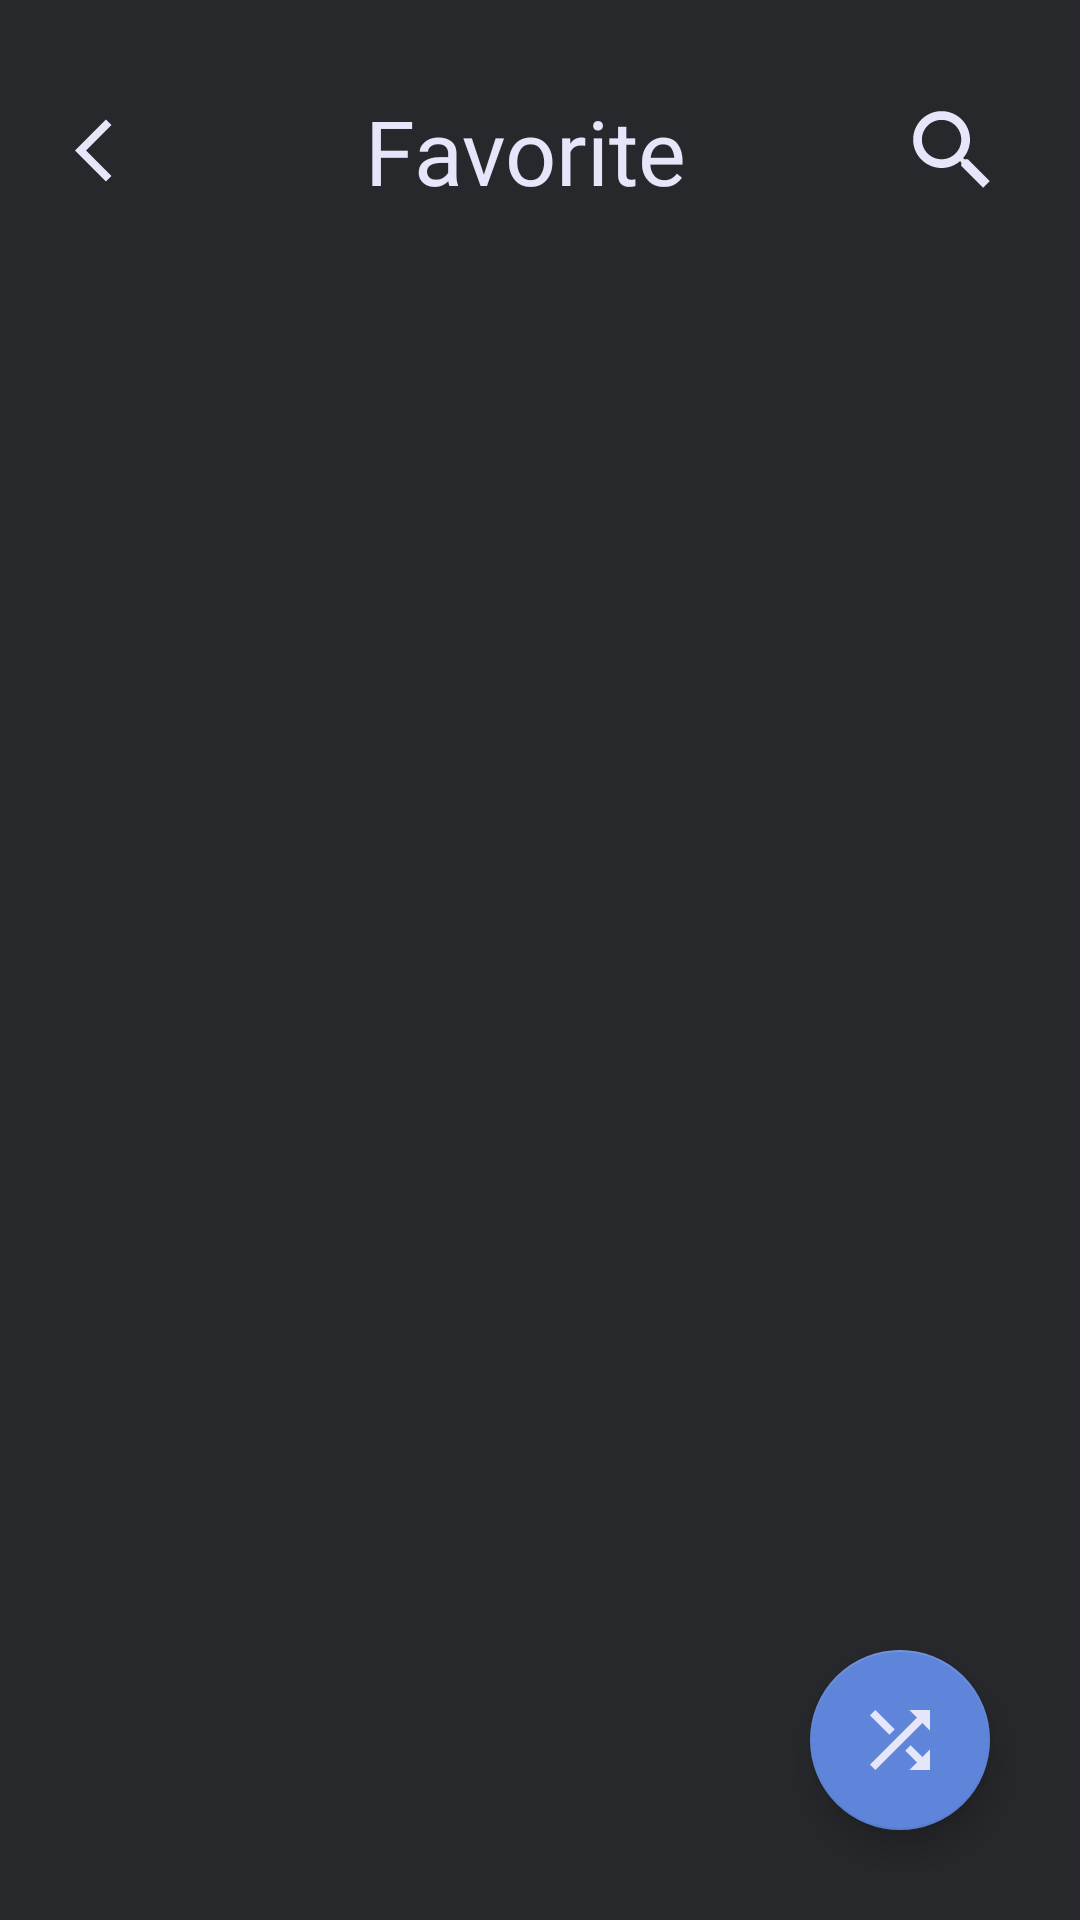

Where icons sit on this 1080x1920 app screen, as [x1,y1,x2,y2]:
back: [75,119,111,182]
search: [913,111,990,188]
shuffle: [810,1650,990,1830]
